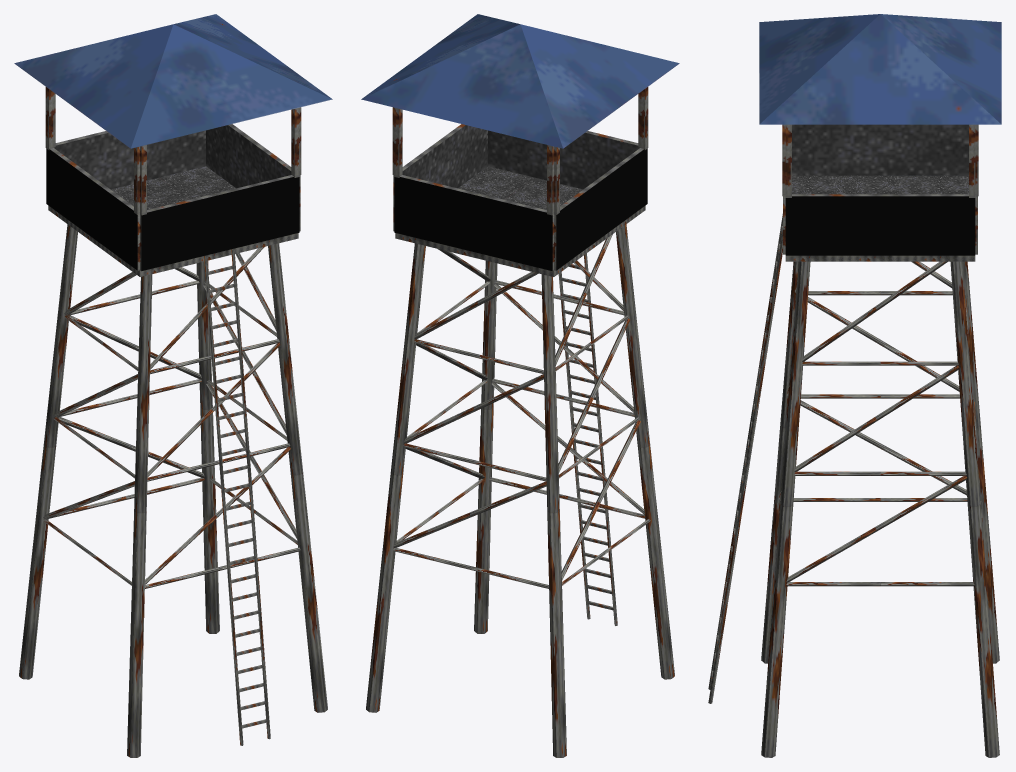
Rendered from SM_lookout_tower.fbx.
3 renders of one model, left to right at view 1: azimuth 30°, elevation 25°; view 2: azimuth 150°, elevation 25°; view 3: azimuth 270°, elevation 25°, orthographic. The views are drawn at different scales.
Parts seen in each view (by area): view 1: lookout_tower, lookout_tower_ladder; view 2: lookout_tower, lookout_tower_ladder; view 3: lookout_tower, lookout_tower_ladder.
Part boxes in pixels (left/top/right/bottom): lookout_tower: left=14, top=14, right=332, bottom=757; lookout_tower_ladder: left=204, top=249, right=270, bottom=745; lookout_tower: left=361, top=14, right=679, bottom=757; lookout_tower_ladder: left=558, top=253, right=617, bottom=625; lookout_tower: left=759, top=14, right=1001, bottom=757; lookout_tower_ladder: left=708, top=214, right=782, bottom=703.
Bounding box in the file's own units: 3.7 × 11.71 × 4.48.
